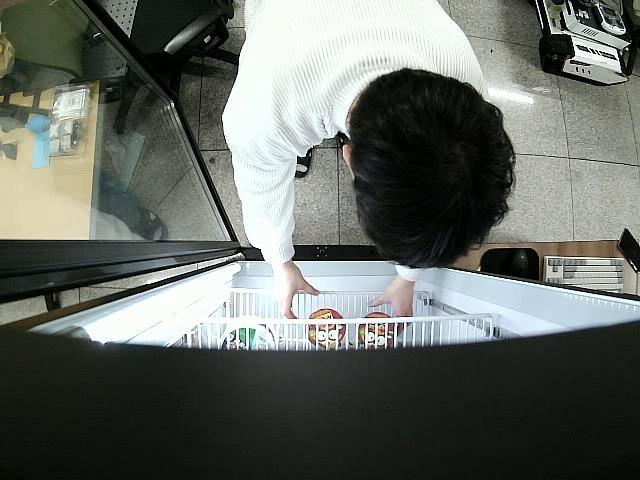06_nuguri_S: (360, 312, 397, 348)
